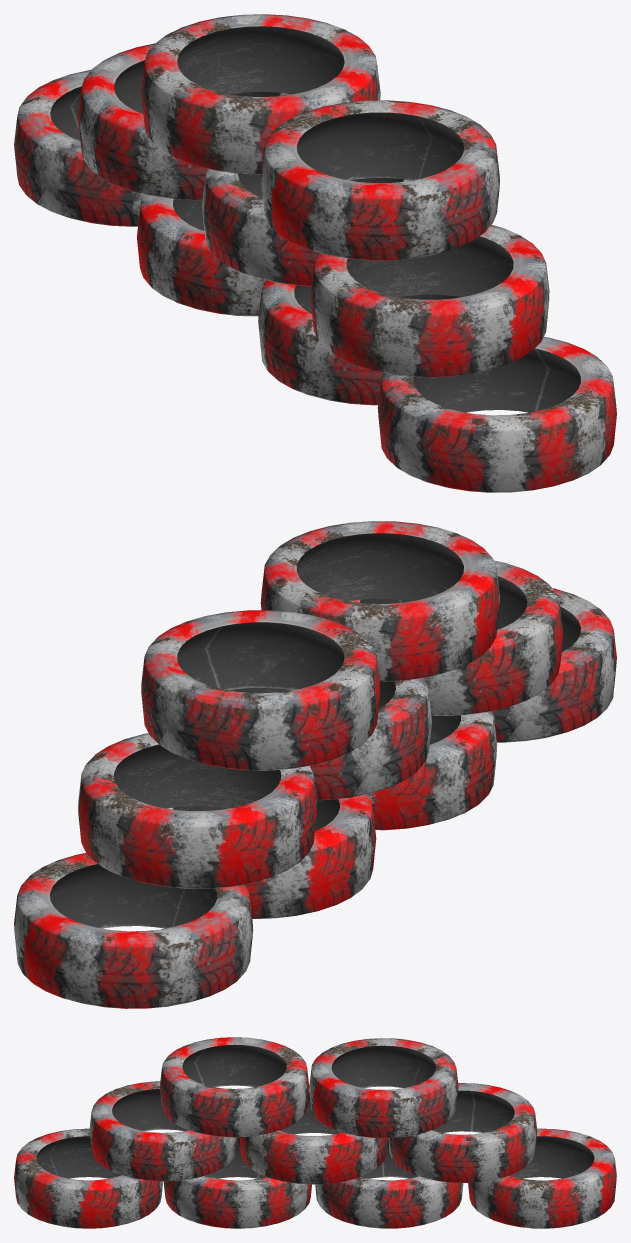
The model's file is Wheel Pile.fbx.
The picture shows the model from 3 angles, top to bottom: view 1: azimuth 30°, elevation 25°; view 2: azimuth 150°, elevation 25°; view 3: azimuth 270°, elevation 25°; orthographic projection. The views are drawn at different scales.
Visible parts, largest first — view 1: Wheel_Wheel_0.007, Wheel_Wheel_0, Wheel_Wheel_0.004, Wheel_Wheel_0.008, Wheel_Wheel_0.006, Wheel_Wheel_0.003, Wheel_Wheel_0.002, Wheel_Wheel_0.001, Wheel_Wheel_0.005; view 2: Wheel_Wheel_0.008, Wheel_Wheel_0.003, Wheel_Wheel_0.006, Wheel_Wheel_0.007, Wheel_Wheel_0.004, Wheel_Wheel_0, Wheel_Wheel_0.002, Wheel_Wheel_0.001, Wheel_Wheel_0.005; view 3: Wheel_Wheel_0.007, Wheel_Wheel_0.008, Wheel_Wheel_0.003, Wheel_Wheel_0, Wheel_Wheel_0.006, Wheel_Wheel_0.004, Wheel_Wheel_0.005, Wheel_Wheel_0.001, Wheel_Wheel_0.002.
Boxes of the visible parts, box(x1,y1,x2,y2) form: Wheel_Wheel_0.007: box(261, 100, 499, 260); Wheel_Wheel_0: box(377, 336, 616, 492); Wheel_Wheel_0.004: box(310, 224, 549, 377); Wheel_Wheel_0.008: box(141, 14, 380, 174); Wheel_Wheel_0.006: box(78, 43, 291, 200); Wheel_Wheel_0.003: box(14, 69, 143, 226); Wheel_Wheel_0.002: box(137, 194, 266, 316); Wheel_Wheel_0.001: box(258, 280, 460, 405); Wheel_Wheel_0.005: box(202, 168, 410, 286); Wheel_Wheel_0.008: box(141, 610, 380, 770); Wheel_Wheel_0.003: box(14, 853, 253, 1008); Wheel_Wheel_0.006: box(78, 733, 316, 888); Wheel_Wheel_0.007: box(260, 521, 499, 681); Wheel_Wheel_0.004: box(350, 560, 563, 715); Wheel_Wheel_0: box(492, 588, 616, 742); Wheel_Wheel_0.002: box(167, 794, 376, 918); Wheel_Wheel_0.001: box(367, 711, 497, 830); Wheel_Wheel_0.005: box(230, 677, 431, 800); Wheel_Wheel_0.007: box(159, 1037, 309, 1137); Wheel_Wheel_0.008: box(309, 1038, 458, 1138); Wheel_Wheel_0.003: box(468, 1128, 616, 1228); Wheel_Wheel_0: box(14, 1128, 162, 1228); Wheel_Wheel_0.006: box(388, 1083, 537, 1182); Wheel_Wheel_0.004: box(89, 1081, 238, 1181); Wheel_Wheel_0.005: box(239, 1089, 387, 1184); Wheel_Wheel_0.001: box(163, 1137, 311, 1228); Wheel_Wheel_0.002: box(315, 1138, 463, 1228).
Size of the model in its own units: 1.17 by 1.12 by 4.48.
Materials: 1 (1 with a texture image).
